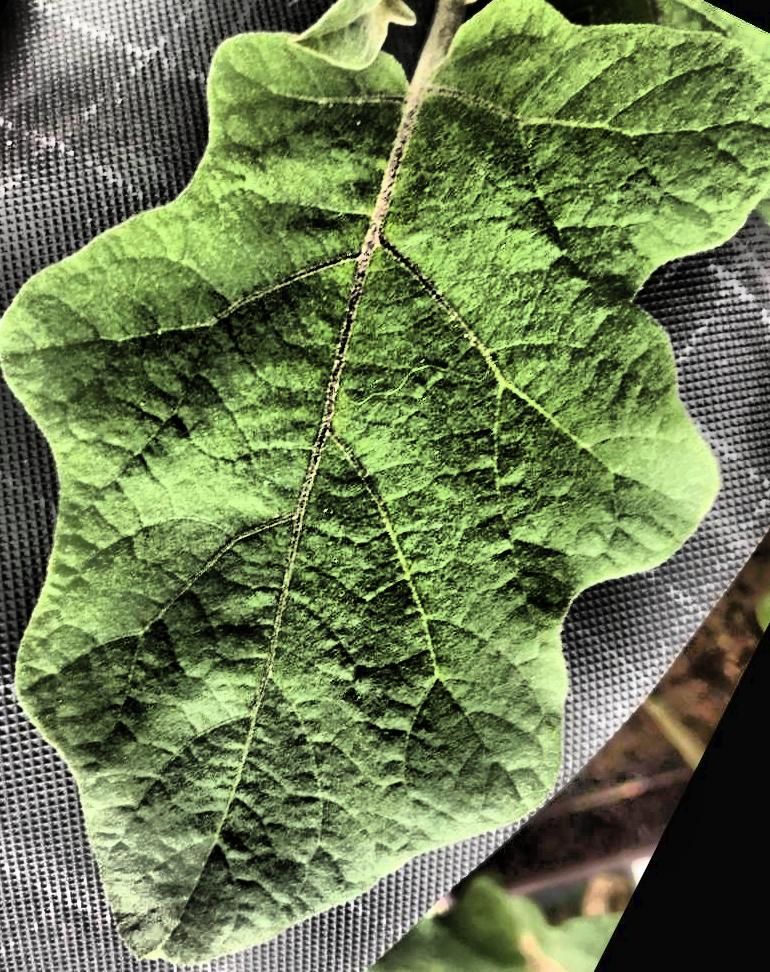HEALTHY: (0, 1, 770, 972)
